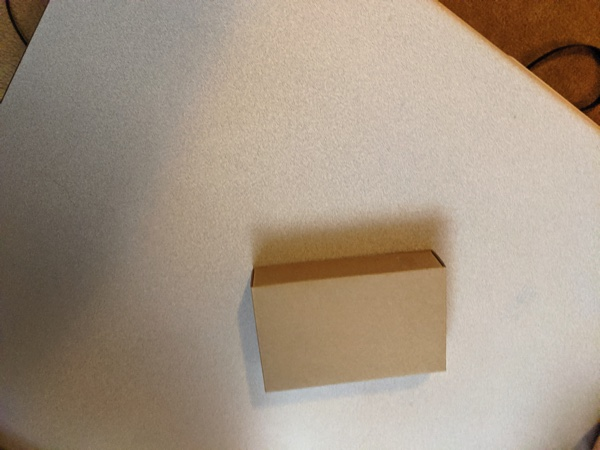cardboard: (227, 235, 467, 403)
